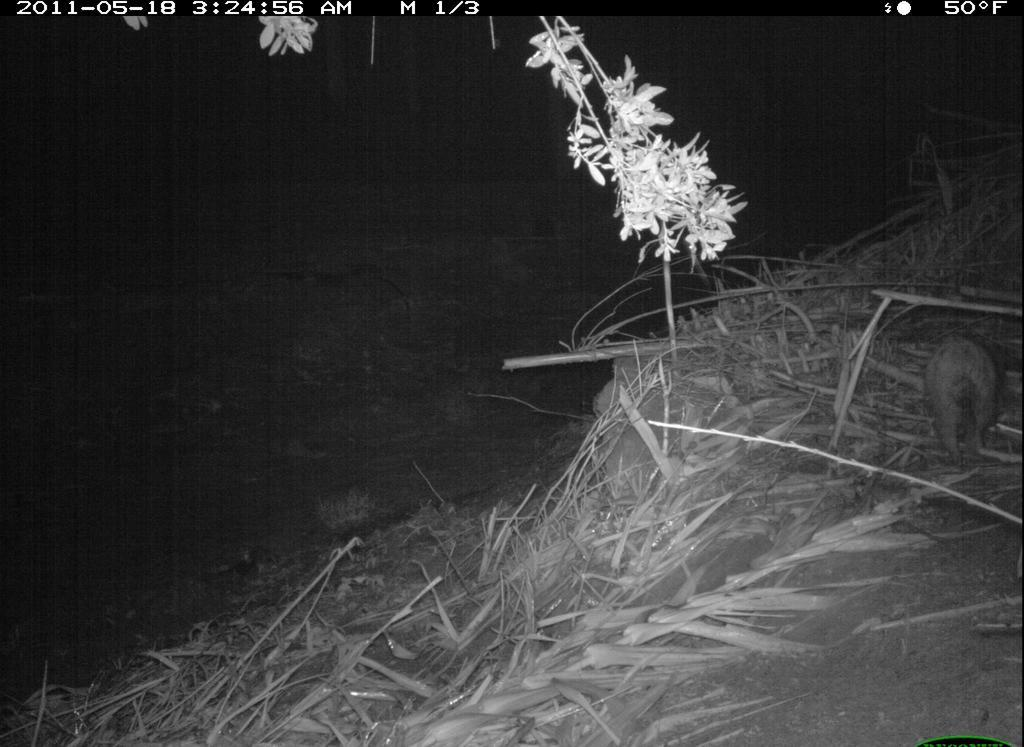opossum: (902, 317, 1023, 481)
